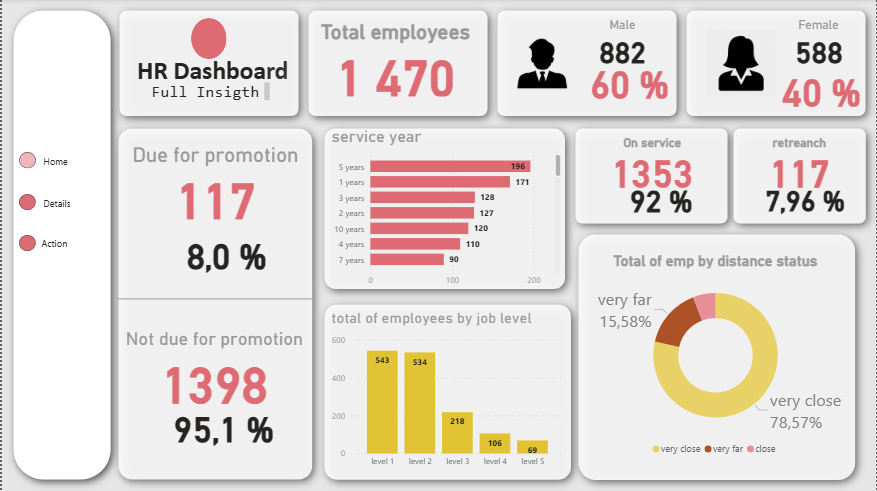

This screenshot's page, from the dashboard's own definition file:
{"tool":"powerbi","page":{"name":"Home","canvas":[1280,720],"ordinal":0},"visuals":[{"type":"shape","box":[0,0,175.7,720],"z":0},{"type":"shape","box":[984.4,0,295.6,188.1],"z":1000},{"type":"shape","box":[708.9,0,295.6,188.1],"z":2000},{"type":"shape","box":[431.7,0,295.6,188.1],"z":3000},{"type":"shape","box":[154.5,0,295.6,188.1],"z":4000},{"type":"shape","box":[154.3,172.9,317.1,547.1],"z":5000},{"type":"shape","box":[455.7,172.9,385.7,268.6],"z":6000},{"type":"shape","box":[455.7,430,394.3,290],"z":7000},{"type":"shape","box":[822.7,172.7,256.1,172.7],"z":8000},{"type":"shape","box":[827.1,327.1,438.6,392.9],"z":9000},{"type":"shape","box":[1053,172.7,227.3,172.7],"z":10000},{"type":"textbox","box":[166.2,75.4,283.1,63.1],"z":11000},{"type":"textbox","box":[207.7,116.9,189.2,36.9],"z":12000},{"type":"shape","box":[276.9,27.7,52.3,60],"z":13000},{"type":"card","title":"Total employees","fields":{"Values":["All Measures.Total Emp"]},"box":[424.2,30.3,303,116.7],"z":14000},{"type":"card","title":"Male","fields":{"Values":["All Measures.Male"]},"box":[823.1,26.9,171.3,80.6],"z":15000},{"type":"card","title":"Male","fields":{"Values":["All Measures.% Male"]},"box":[851.4,75.7,132.9,85.7],"z":16000},{"type":"card","title":"Female","fields":{"Values":["All Measures.Female"]},"box":[1108.7,26.9,171.3,80.6],"z":17000},{"type":"card","title":"Male","fields":{"Values":["All Measures.% Female"]},"box":[1132.2,87.3,132.7,85.7],"z":18000},{"type":"image","box":[738.6,30,102.9,127.1],"z":19000},{"type":"image","box":[1030,30,102.9,127.1],"z":20000},{"type":"card","title":"Due for promotion","fields":{"Values":["All Measures.Due for promotion"]},"box":[161.4,210,302.9,117.1],"z":21000},{"type":"card","title":"Not due for promotion","fields":{"Values":["All Measures.Not due for promotion"]},"box":[160,481.4,302.9,117.1],"z":22000},{"type":"card","title":"Male","fields":{"Values":["All Measures.% due"]},"box":[212.9,327.1,232.9,85.7],"z":23000},{"type":"card","title":"Male","fields":{"Values":["All Measures.% not due"]},"box":[207.1,581.4,232.9,85.7],"z":24000},{"type":"shape","box":[165.7,430,290,17.1],"z":25000},{"type":"barChart","title":"service year","fields":{"Category":["HR Analytics Data.service years"],"Y":["All Measures.Total Emp"]},"box":[477.3,187.9,345.5,242.4],"z":26000},{"type":"columnChart","title":"total of employees by job level","fields":{"Category":["HR Analytics Data.Job levels"],"Y":["All Measures.Total Emp"]},"box":[477.1,454.3,350,241.4],"z":27000},{"type":"card","title":"On service","fields":{"Values":["All Measures.on service"]},"box":[853,198.5,197,84.8],"z":28000},{"type":"card","title":"Male","fields":{"Values":["All Measures.% on service"]},"box":[898.5,248.5,131.8,86.4],"z":29000},{"type":"card","title":"retreanch","fields":{"Values":["All Measures.will be retrenched"]},"box":[1068.2,198.5,197,84.8],"z":30000},{"type":"card","title":"Male","fields":{"Values":["All Measures.% retrench"]},"box":[1109.1,248.5,131.8,86.4],"z":31000},{"type":"donutChart","title":"Total of emp by distance status","fields":{"Category":["HR Analytics Data.Distance status"],"Y":["All Measures.Total Emp"]},"box":[850,369.7,387.9,307.6],"z":32000},{"type":"bookmarkNavigator","box":[29.3,209.3,58.5,49.8],"z":33000},{"type":"shape","box":[25,224.2,25,24.2],"z":34000},{"type":"shape","box":[24.5,345.5,24.5,23.6],"z":34001},{"type":"shape","box":[24.5,285.5,24.5,23.6],"z":34002},{"type":"textbox","box":[55.5,224.5,58.2,31.8],"z":34003},{"type":"textbox","box":[55.5,285.5,58.2,31.8],"z":34004},{"type":"textbox","box":[52.7,343.6,101.8,27.3],"z":34005}]}

Visuals, with their boxes in screenshot pixels (x1, y1, x2, y2), scaled from the page's 1280x720 canvas onto the 877x491 screenshot:
shape: (0,0,120,490)
shape: (674,0,876,128)
shape: (486,0,688,128)
shape: (296,0,498,128)
shape: (106,0,308,128)
shape: (106,118,323,490)
shape: (312,118,576,301)
shape: (312,293,582,490)
shape: (564,118,739,236)
shape: (567,223,867,490)
shape: (721,118,876,236)
textbox: (114,51,308,94)
textbox: (142,80,272,105)
shape: (190,19,226,60)
"Total employees" card: (291,21,498,100)
"Male" card: (564,18,681,73)
"Male" card: (583,52,674,110)
"Female" card: (760,18,876,73)
"Male" card: (776,60,867,118)
image: (506,20,577,107)
image: (706,20,776,107)
"Due for promotion" card: (111,143,318,223)
"Not due for promotion" card: (110,328,317,408)
"Male" card: (146,223,305,282)
"Male" card: (142,396,301,455)
shape: (114,293,312,305)
"service year" barChart: (327,128,564,293)
"total of employees by job level" columnChart: (327,310,567,474)
"On service" card: (584,135,719,193)
"Male" card: (616,169,706,228)
"retreanch" card: (732,135,867,193)
"Male" card: (760,169,850,228)
"Total of emp by distance status" donutChart: (582,252,848,462)
bookmarkNavigator: (20,143,60,177)
shape: (17,153,34,169)
shape: (17,236,34,252)
shape: (17,195,34,211)
textbox: (38,153,78,175)
textbox: (38,195,78,216)
textbox: (36,234,106,253)
